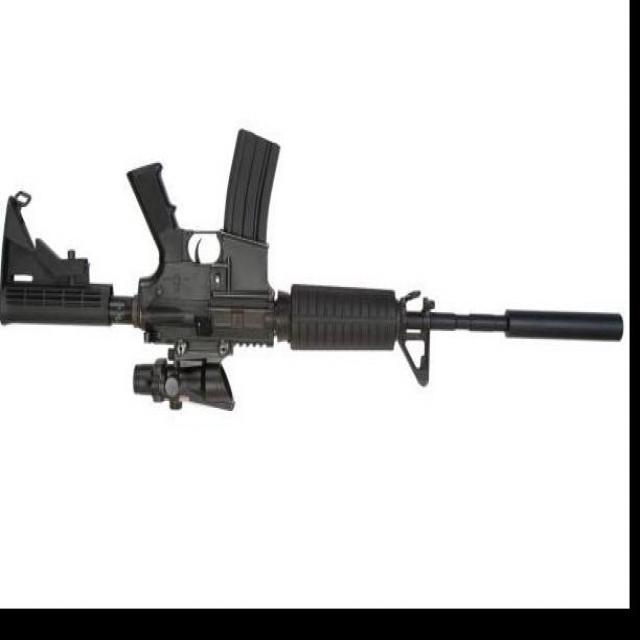weapon: (0, 128, 623, 413)
